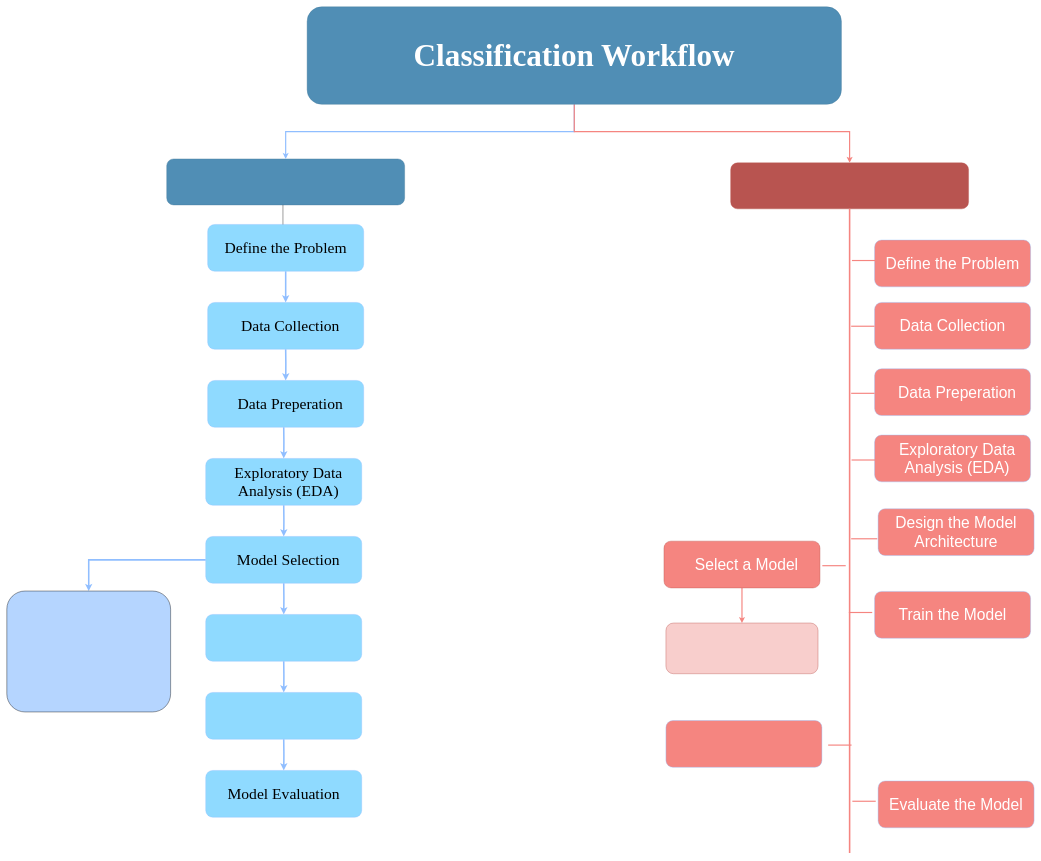
This 1041x861 diagram has some shape labels left out. The centre of each missing label's shape, as x and y in pixels:
"Design the Neural Network Architecture" goes at point (283, 637).
"Fine Tunning" goes at point (742, 648).
"Image Classification" goes at point (285, 182).
"Model Training" goes at point (283, 715).
"ResNet VGG19 Inception MobileNet EffiecentNet" goes at point (88, 651).
"Text Classfication" goes at point (849, 185).
"Tune and Optimize" goes at point (744, 743).
